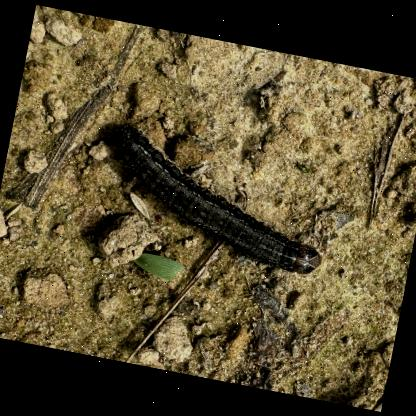Fall Armyworm Larvae: (92, 114, 344, 281)
